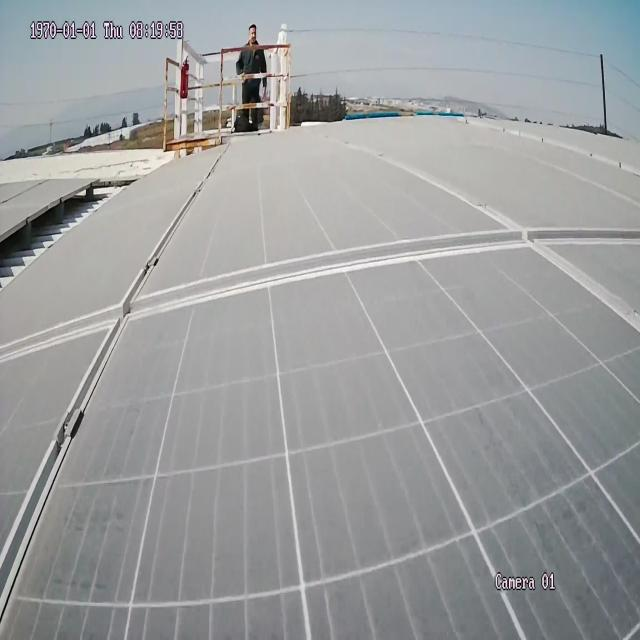interior panel: (0, 130, 640, 640)
outher panel: (1, 166, 148, 299)
